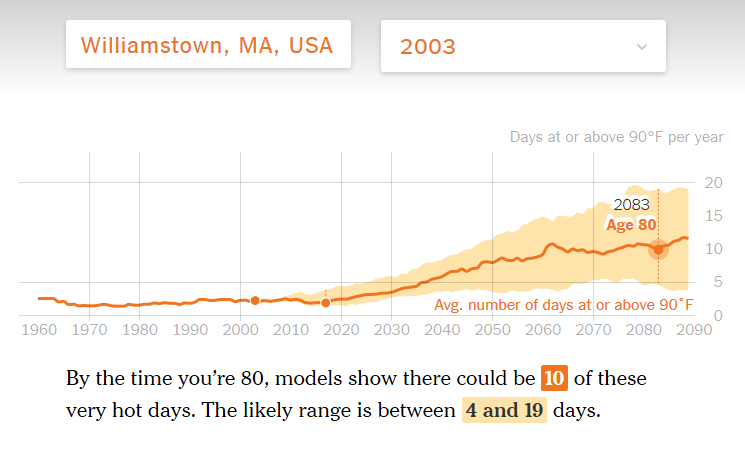

The dashboard page shown, as its layout file describes it:
{"tool":"tableau","page":{"name":"Dashboard 1","canvas":[450,480],"ordinal":0},"visuals":[{"type":"worksheet","title":"Slopegraph","mark":"Line","box":[8,8,434,430.5]},{"type":"text","box":[8,438.5,434,33.5]}]}

Visuals, with their boxes on the page's 450x480 design canvas (x1, y1, x2, y2). These are canvas units, not pixel positions in the 745x459 screenshot, which may show the page scaled, cropped or inside an application window:
"Slopegraph" worksheet (Line marks): 8,8,442,438
text: 8,438,442,472
